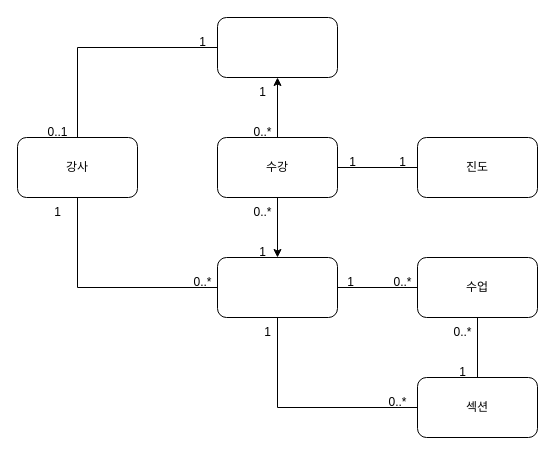
The diagram is 555 pixels wide and 455 high, and some of its shapes have lost their labels. The shapes that lost their labels are listed below. From the top down, each one's box as (x1, y1, x2, y2) in pixels, then its label:
(216, 16, 338, 78): 회원
(216, 256, 338, 318): 강의
